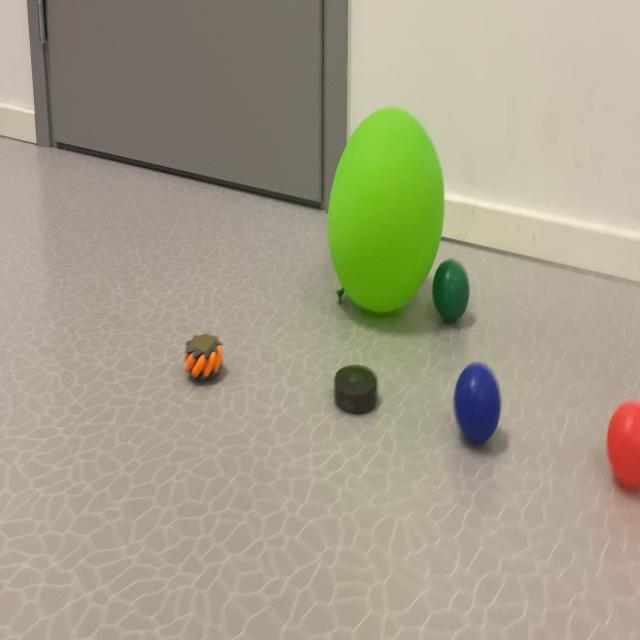7: (604, 356, 640, 542)
green ball: (440, 344, 524, 496)
red ball: (419, 242, 495, 336)
